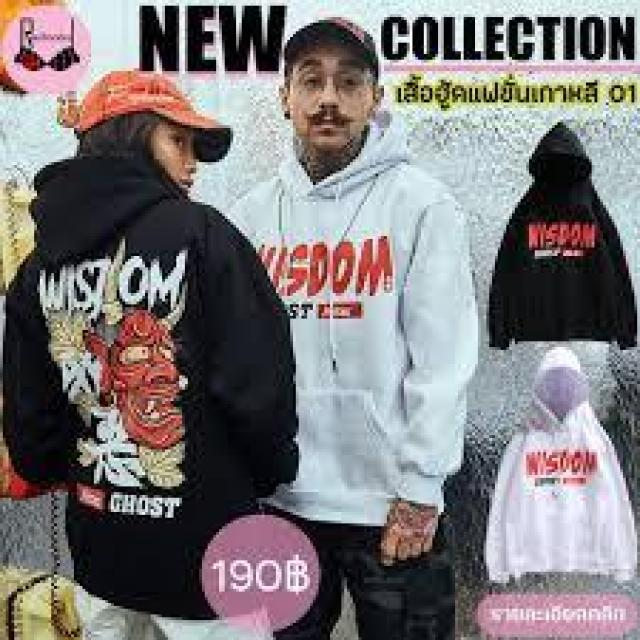sweater: (0, 151, 302, 620), (226, 108, 482, 541)
